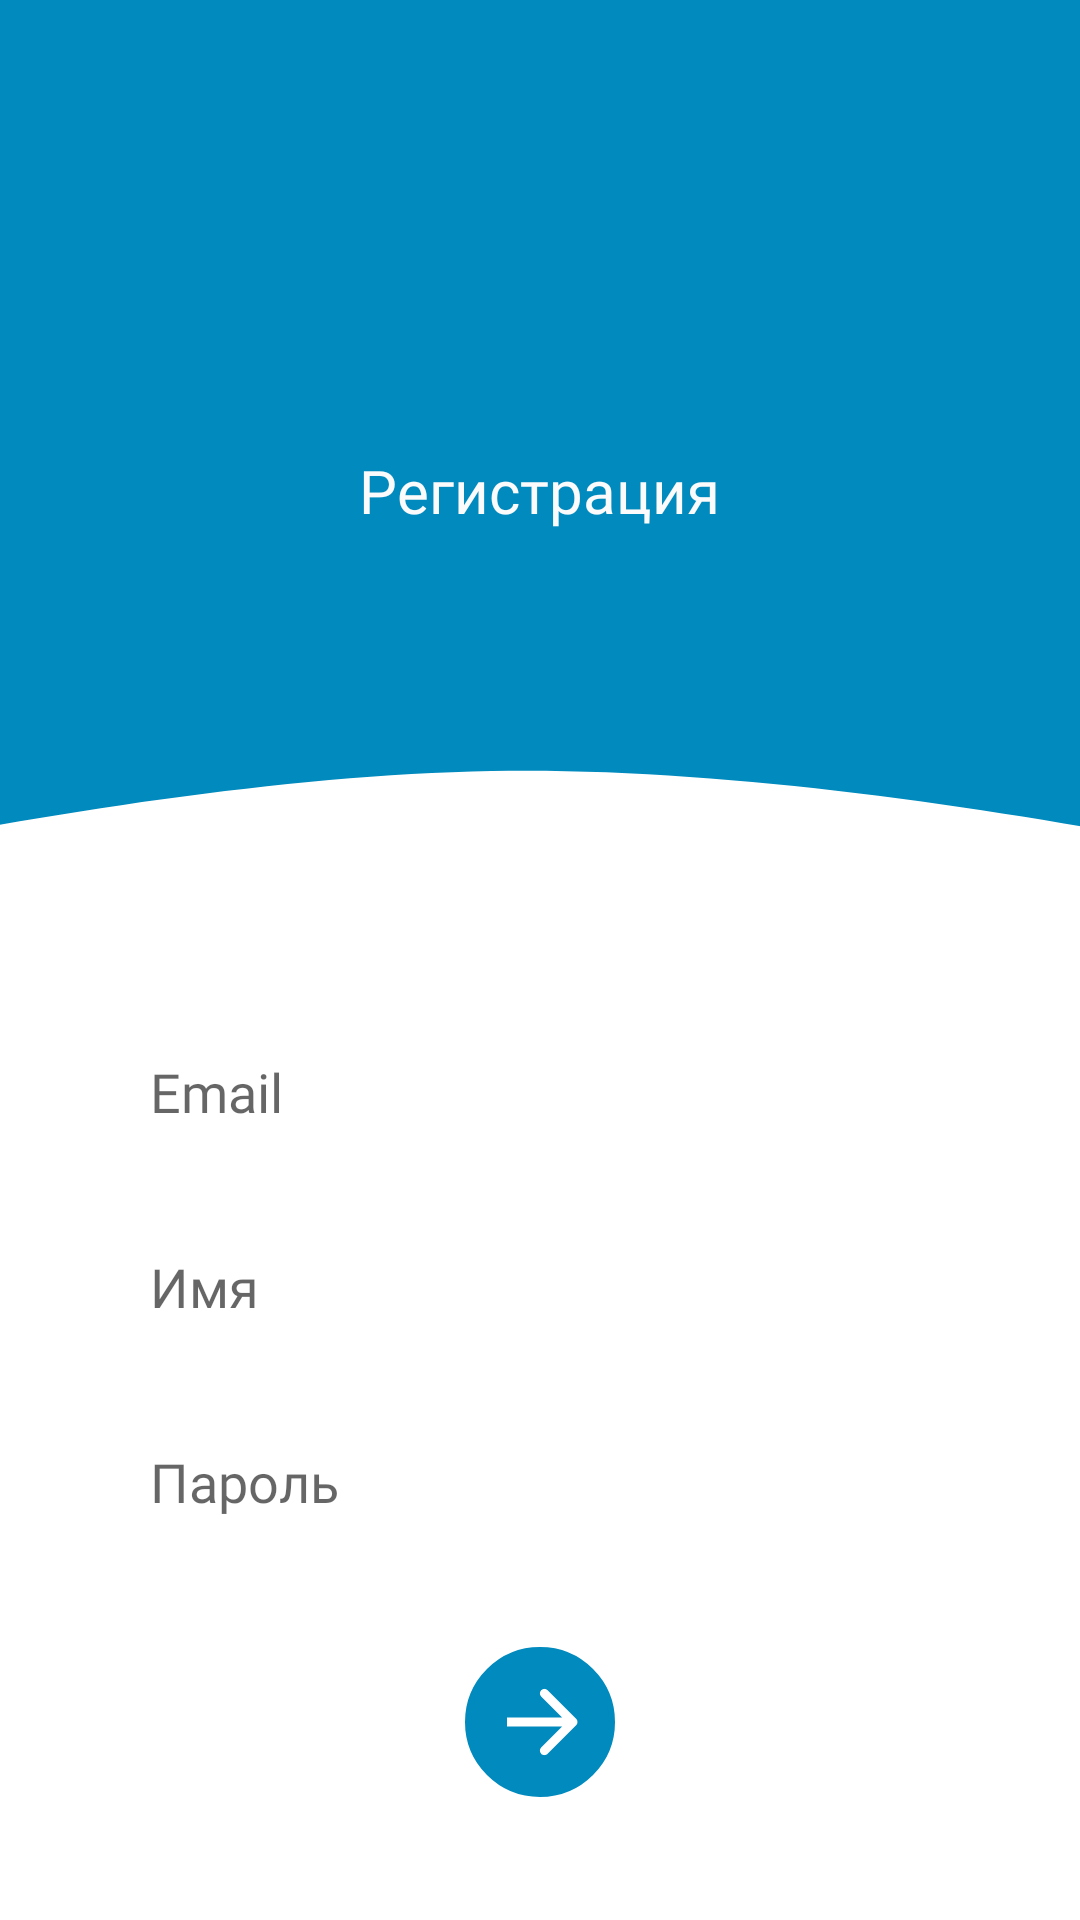

Screen size 1080 x 1920. Icon name, then its box in pixels as detection(x1, y1, x2, y2):
arrow: detection(465, 1647, 615, 1797)
